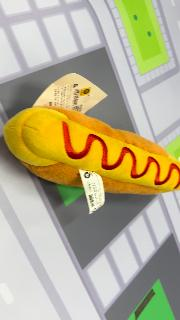hotdog: (3, 106, 179, 196)
